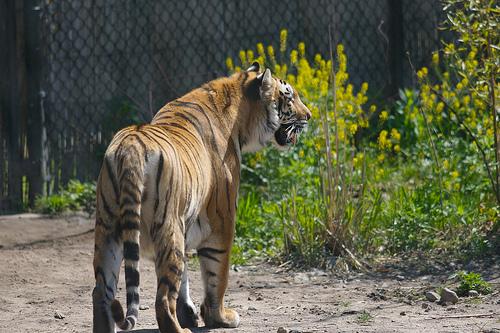Tigre: (94, 65, 315, 322)
